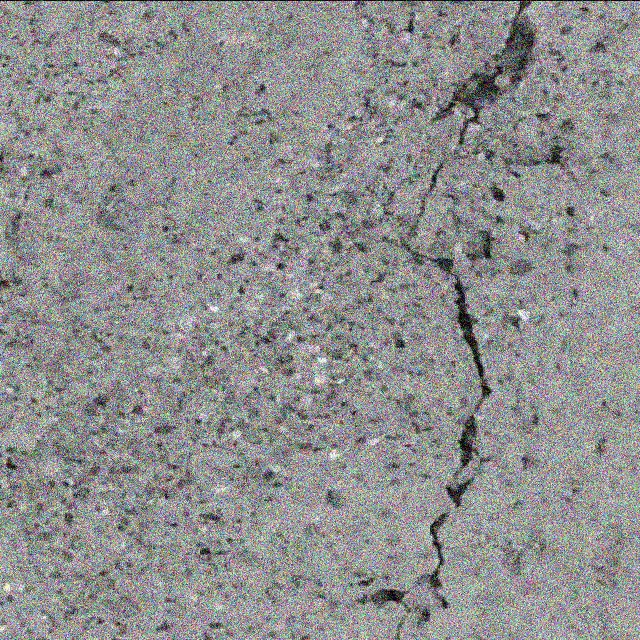SurfaceCrack: (353, 0, 570, 640)
